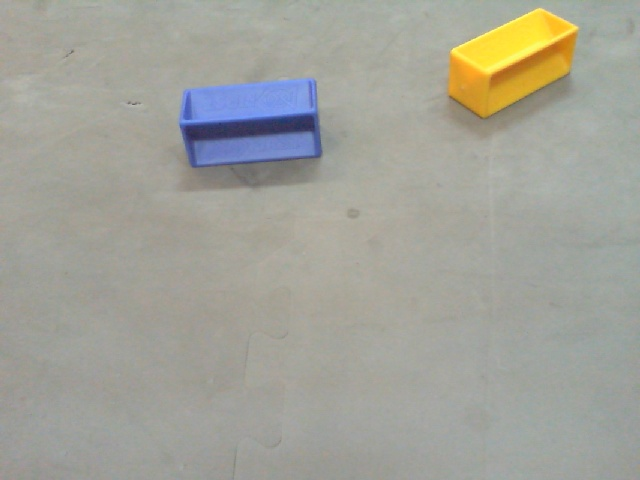BlueSample: (177, 75, 322, 167)
YellowSample: (447, 4, 580, 119)
